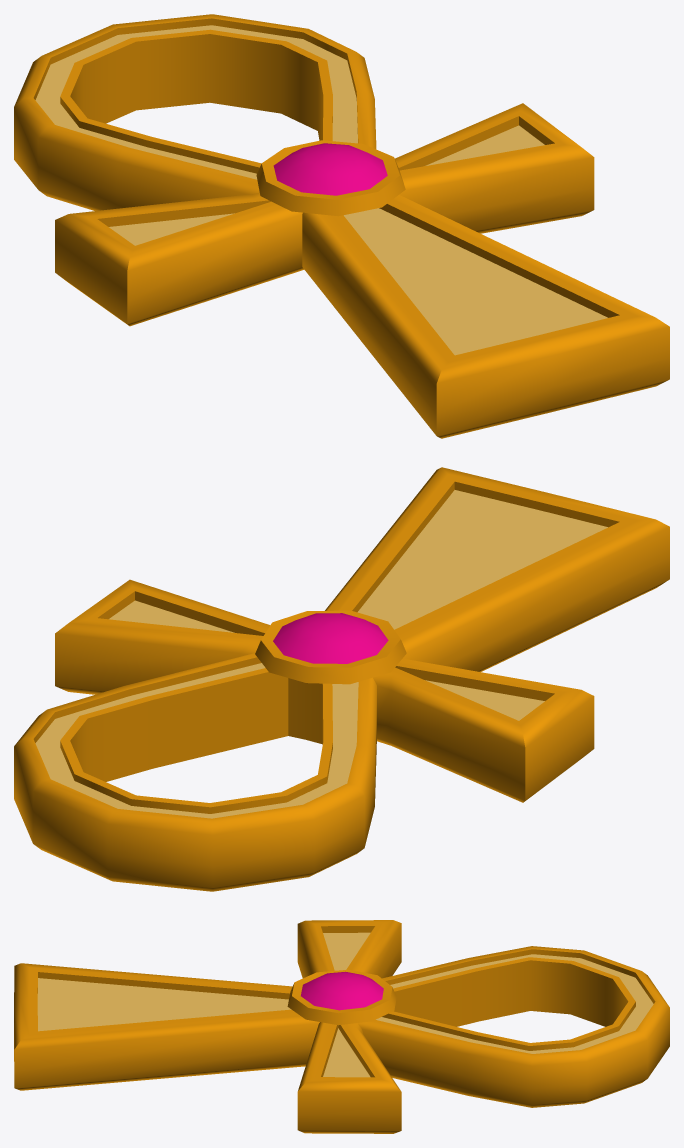
File: sign.fbx
3 views of the same model, one above another, from view 1: azimuth 30°, elevation 25°; view 2: azimuth 150°, elevation 25°; view 3: azimuth 270°, elevation 25° (orthographic). The views are drawn at different scales.
Visible parts, largest first — view 1: Circle, Retopo_Sphere; view 2: Circle, Retopo_Sphere; view 3: Circle, Retopo_Sphere.
Part boxes in pixels (box(x1,y1,x2,y2)): Circle: box(14, 14, 669, 438); Retopo_Sphere: box(256, 140, 405, 216); Circle: box(14, 467, 669, 891); Retopo_Sphere: box(255, 610, 406, 684); Circle: box(14, 920, 669, 1133); Retopo_Sphere: box(287, 969, 396, 1025).
Bounding box in the file's own units: 241 × 48.77 × 396.
